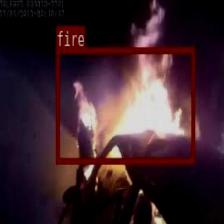fire: (55, 46, 194, 163)
